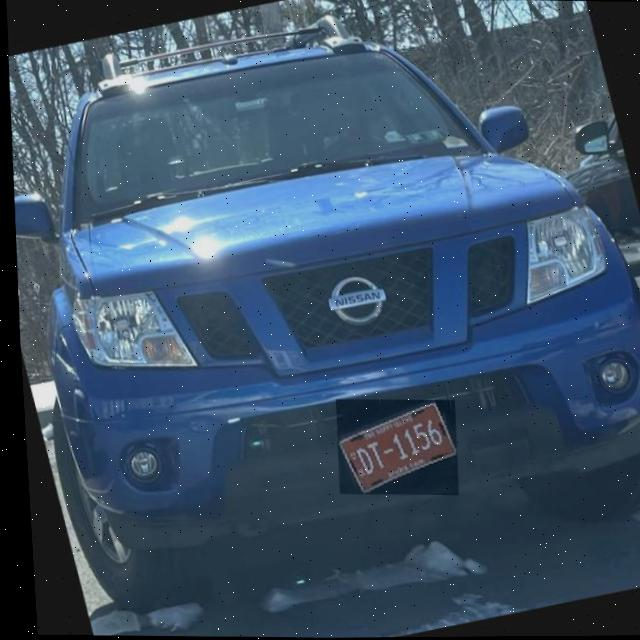LicensePlate: (331, 401, 451, 494)
